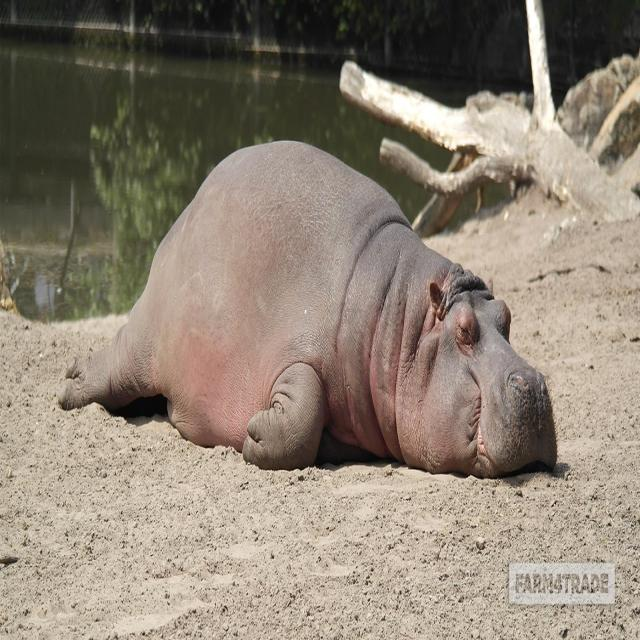Hippopotamus: (62, 135, 561, 473)
